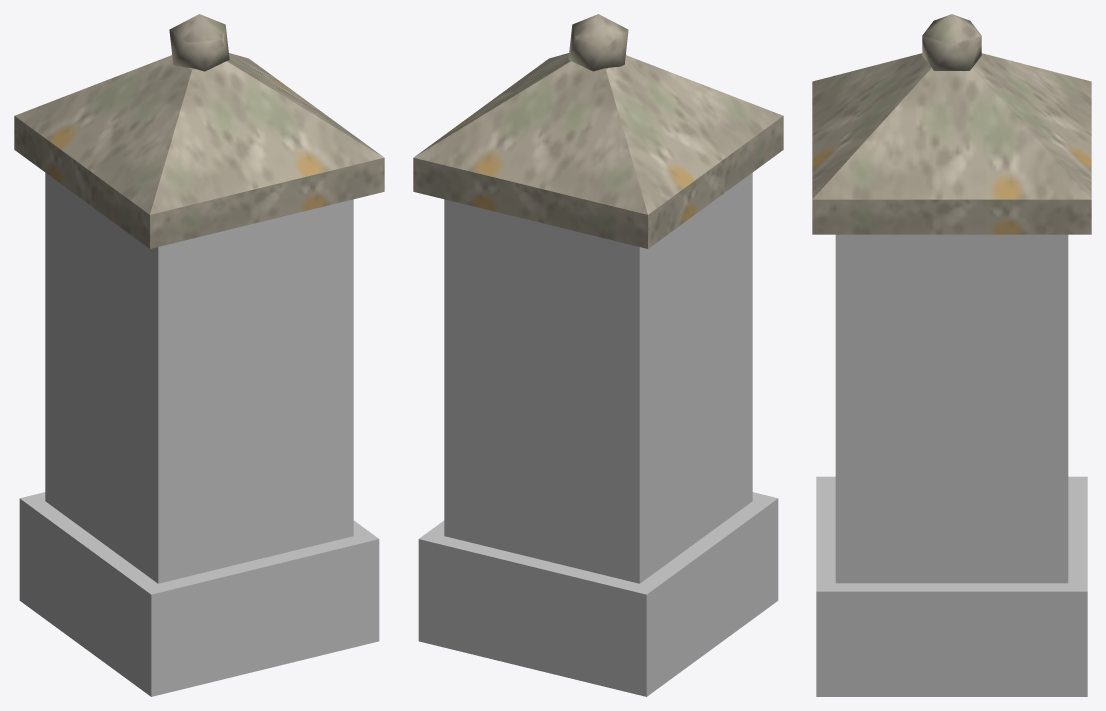
File: SE_Wall_Pier.glb
3 renders of one model, left to right at view 1: azimuth 30°, elevation 25°; view 2: azimuth 150°, elevation 25°; view 3: azimuth 270°, elevation 25°, orthographic. The views are drawn at different scales.
Visible parts, largest first — view 1: SE_Wall_Pier; view 2: SE_Wall_Pier; view 3: SE_Wall_Pier.
Part boxes in pixels (left/top/right/bottom): SE_Wall_Pier: left=14, top=14, right=384, bottom=696; SE_Wall_Pier: left=413, top=14, right=783, bottom=696; SE_Wall_Pier: left=812, top=14, right=1091, bottom=696.
Bounding box in the file's own units: 0.72 × 1.78 × 0.72.
